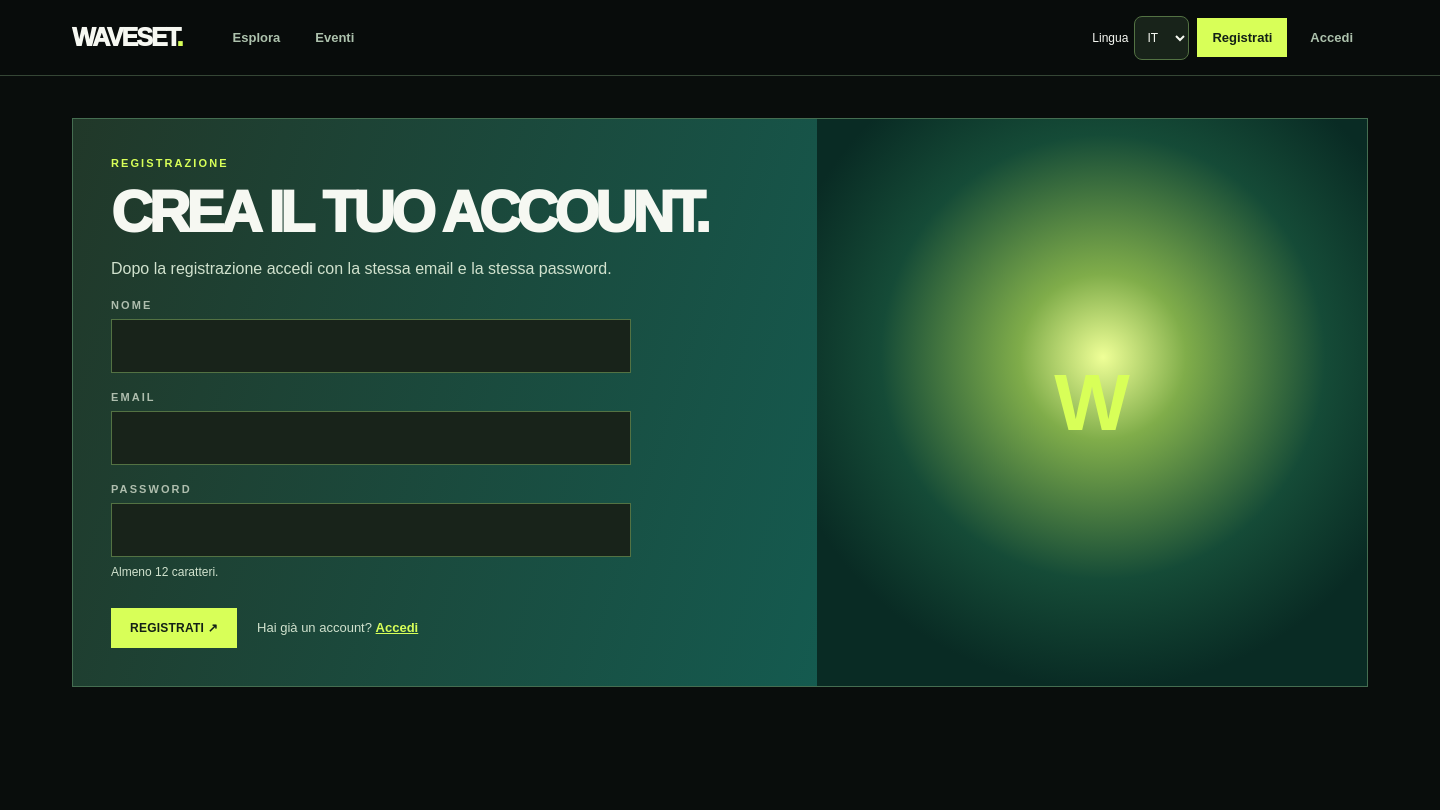
Test case: schermata di registrazione › 201: invia esattamente { nome, email, password } (senza spazi ai bordi), senza CSRF, e porta all'accesso con l'email già compilata
Expected: the heading "Crea il tuo account." is shown, [111,184,779,242]
Step 1. Type "  Alice  " into the field labelled "Nome" → (371, 346), box [133,320,609,372]
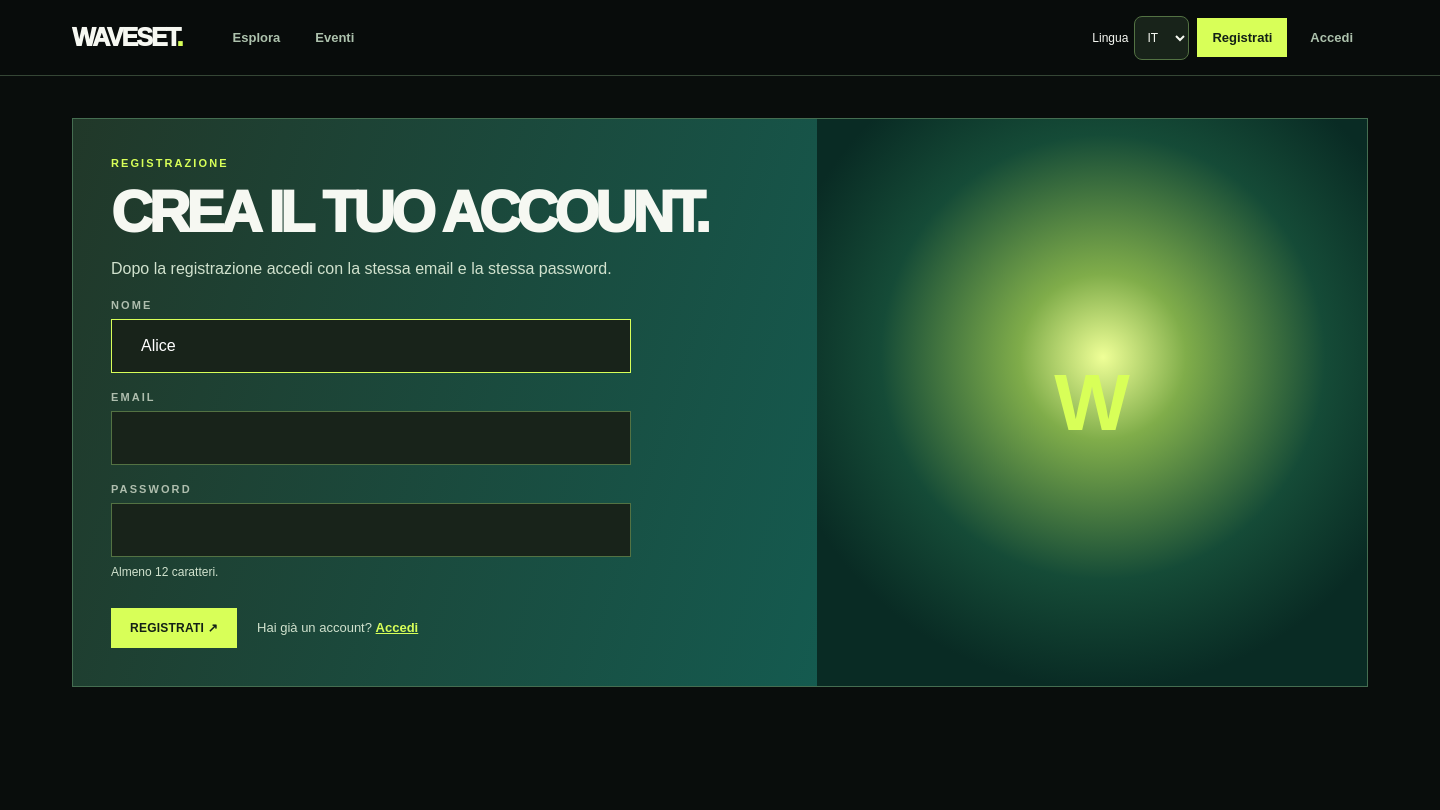
Step 2. Type " alice@esempio.test " into the field labelled "Email" → (371, 438), box [133,412,609,464]
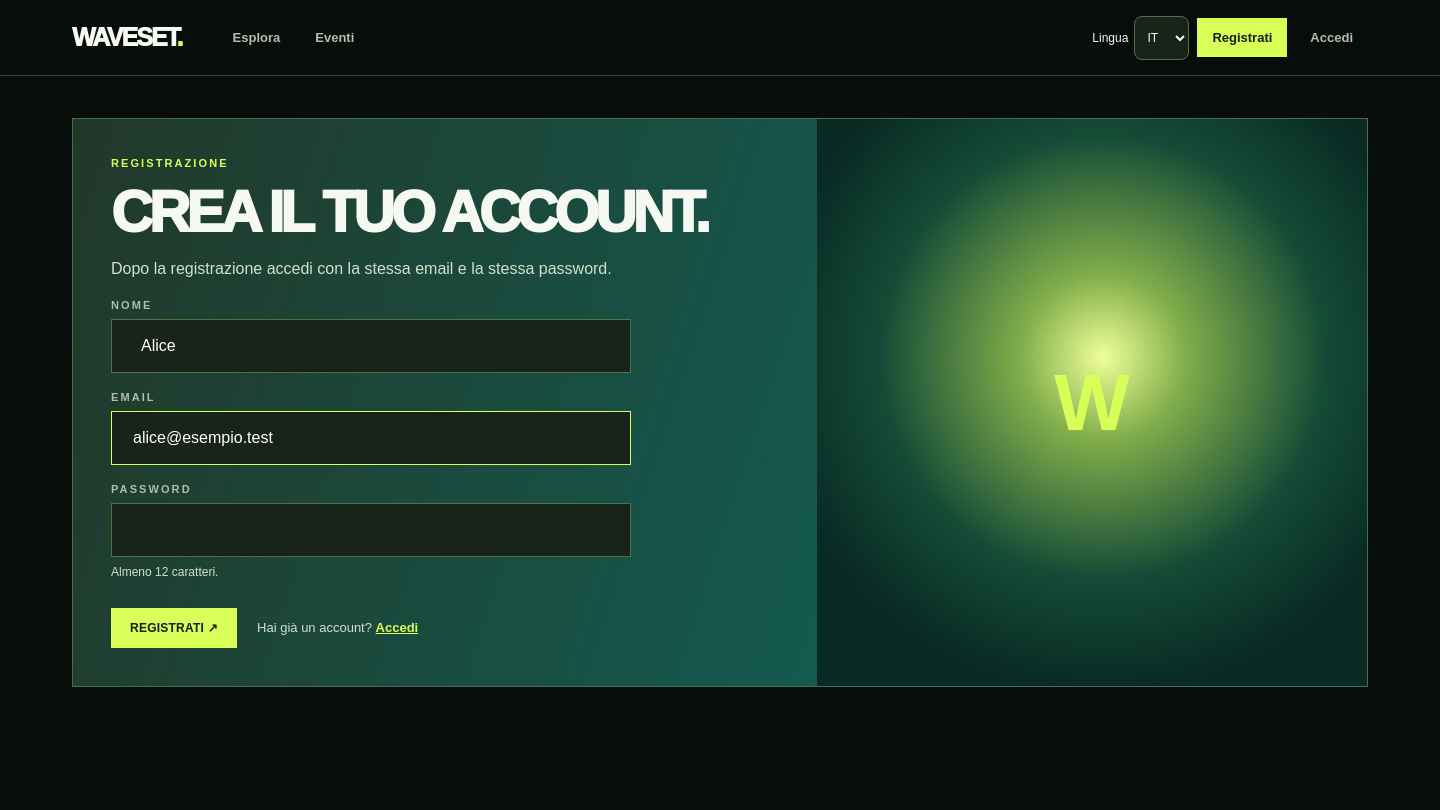
Step 3. Type "una password lunga" into the password field labelled "Password" → (371, 530), box [133,504,609,556]
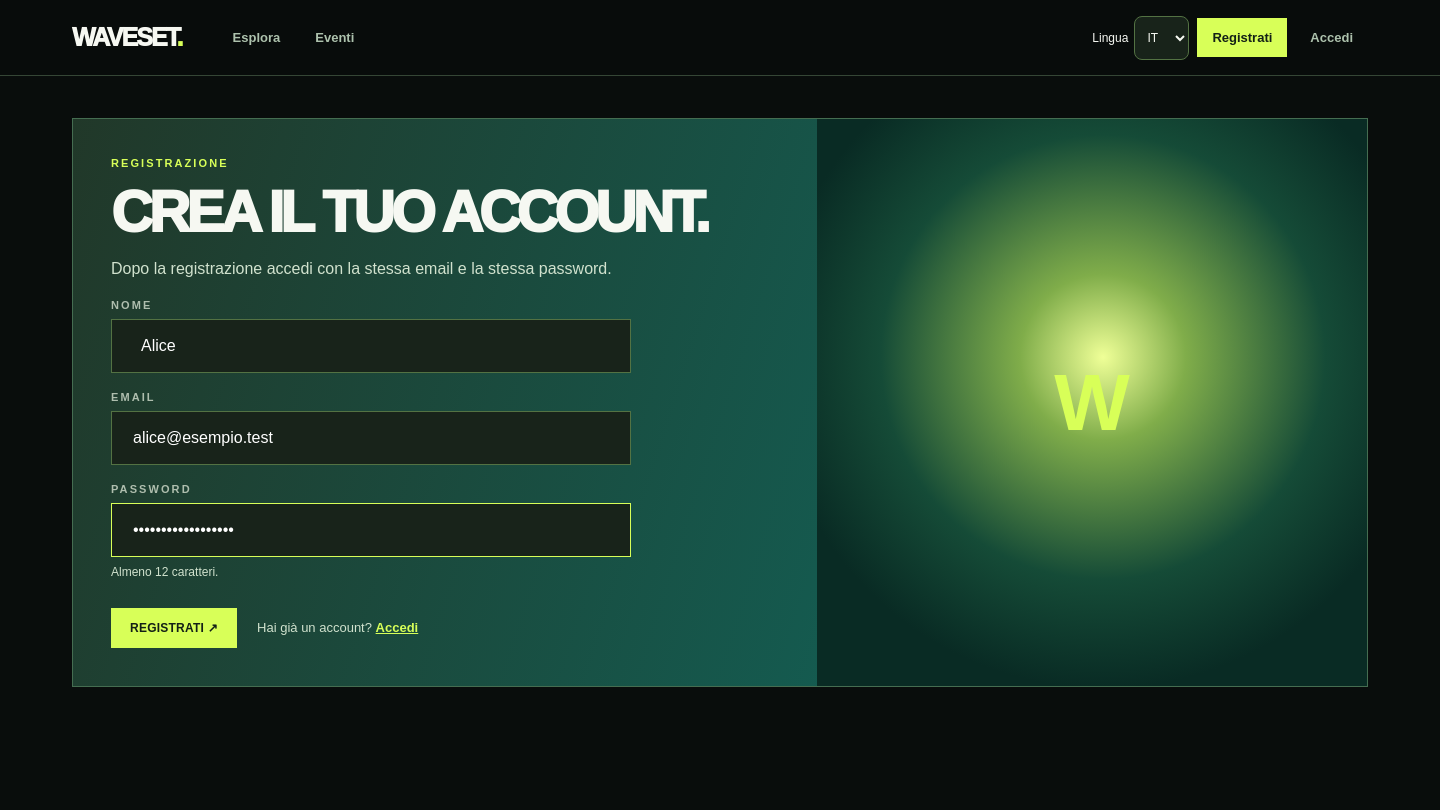
Step 4. Click the button "Registrati ↗" → (174, 628), box [111,608,237,648]
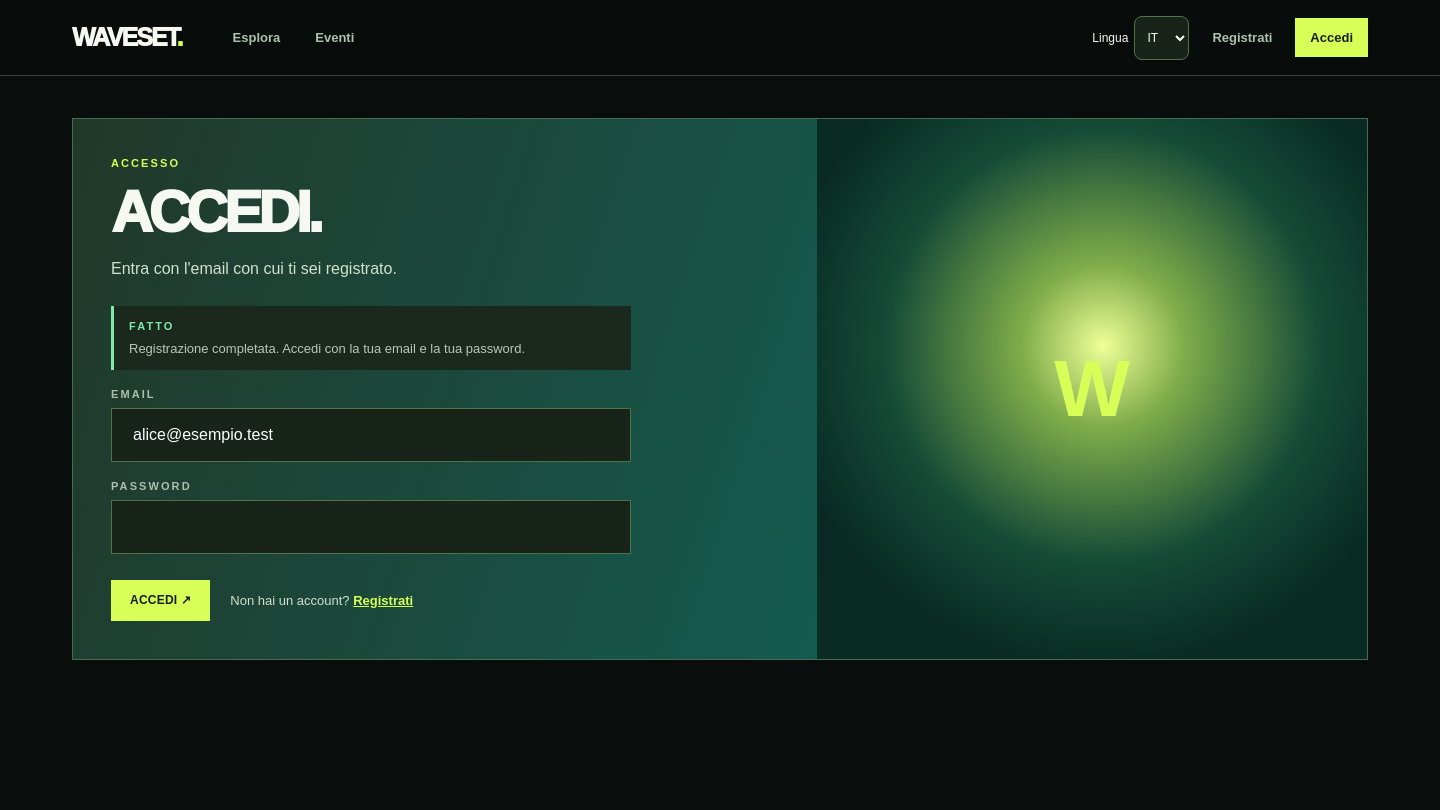
Now the field labelled "Email" holds "alice@esempio.test", box [133,409,609,461]
Now the heading "Accedi." is shown, box [111,180,320,244]
Now the message shows "Registrazione completata", box [129,341,525,356]
